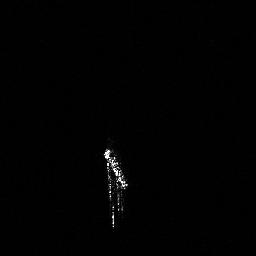ship: (99, 143, 132, 233)
